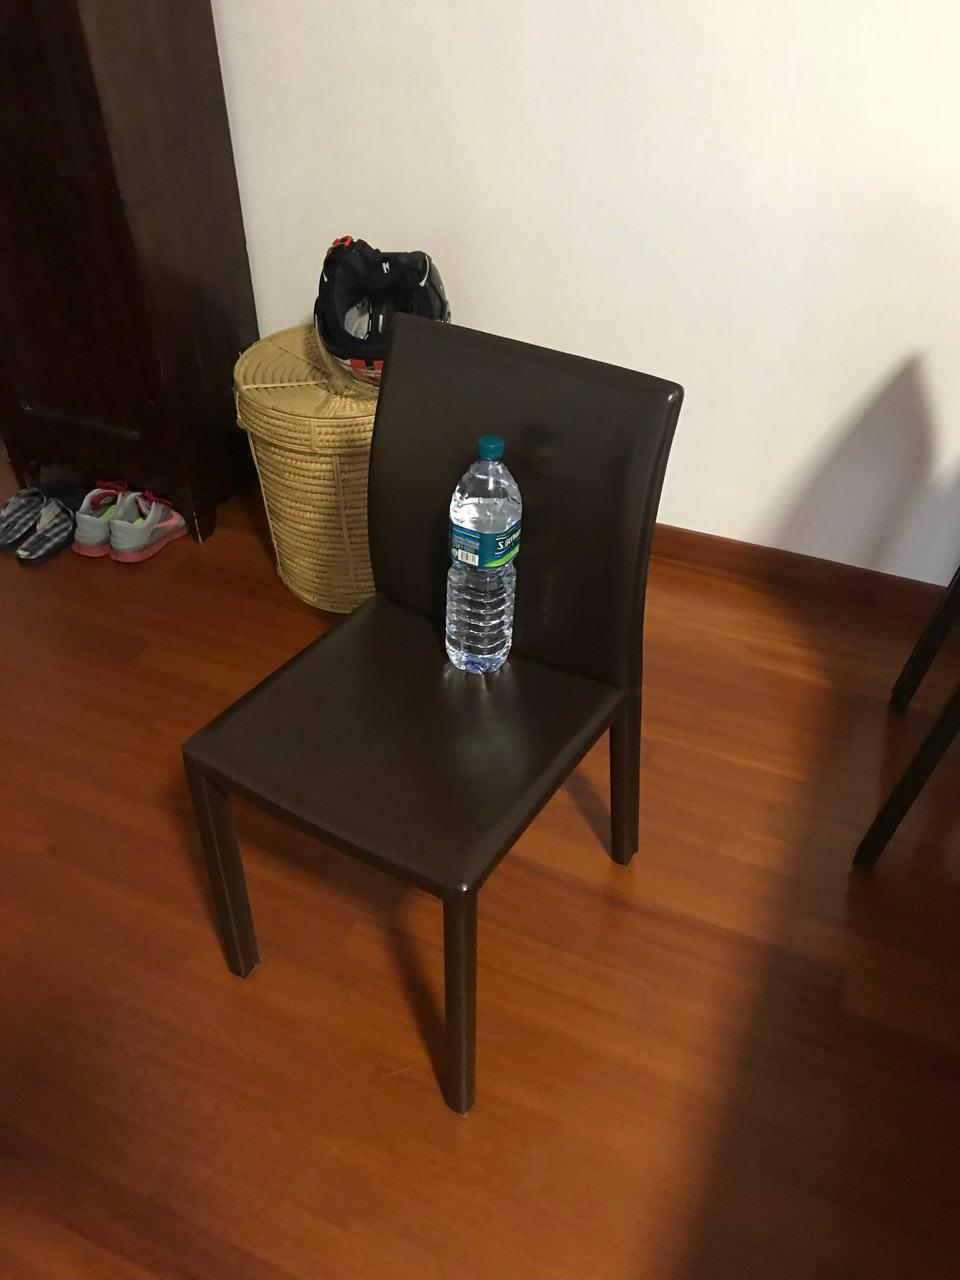san_bernardo: (445, 434, 522, 674)
